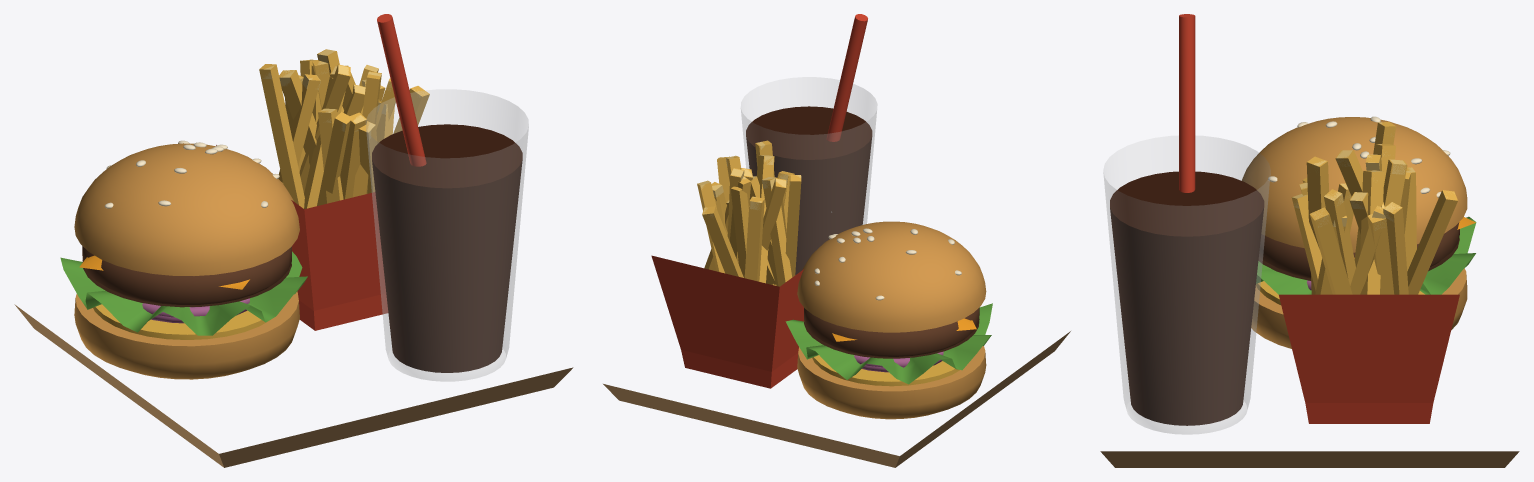
Rendered from combo-classic.glb.
The picture shows the model from 3 angles, left to right: view 1: azimuth 30°, elevation 25°; view 2: azimuth 150°, elevation 25°; view 3: azimuth 270°, elevation 25°; orthographic projection. The views are drawn at different scales.
Parts seen in each view (by area): view 1: combo-classic; view 2: combo-classic; view 3: combo-classic.
Boxes of the visible parts, <box> form: combo-classic: <box>14,14,573,467</box>; combo-classic: <box>603,14,1070,467</box>; combo-classic: <box>1100,14,1519,467</box>.
Size of the model in its own units: 0.208 by 0.2014 by 0.198.
